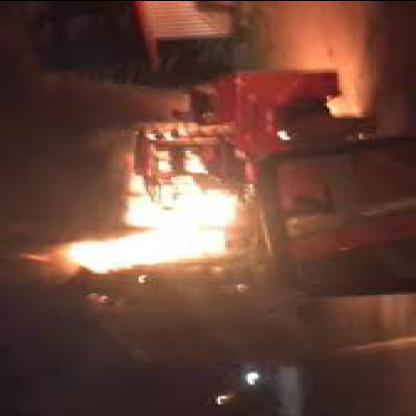Fire: (63, 185, 234, 271)
